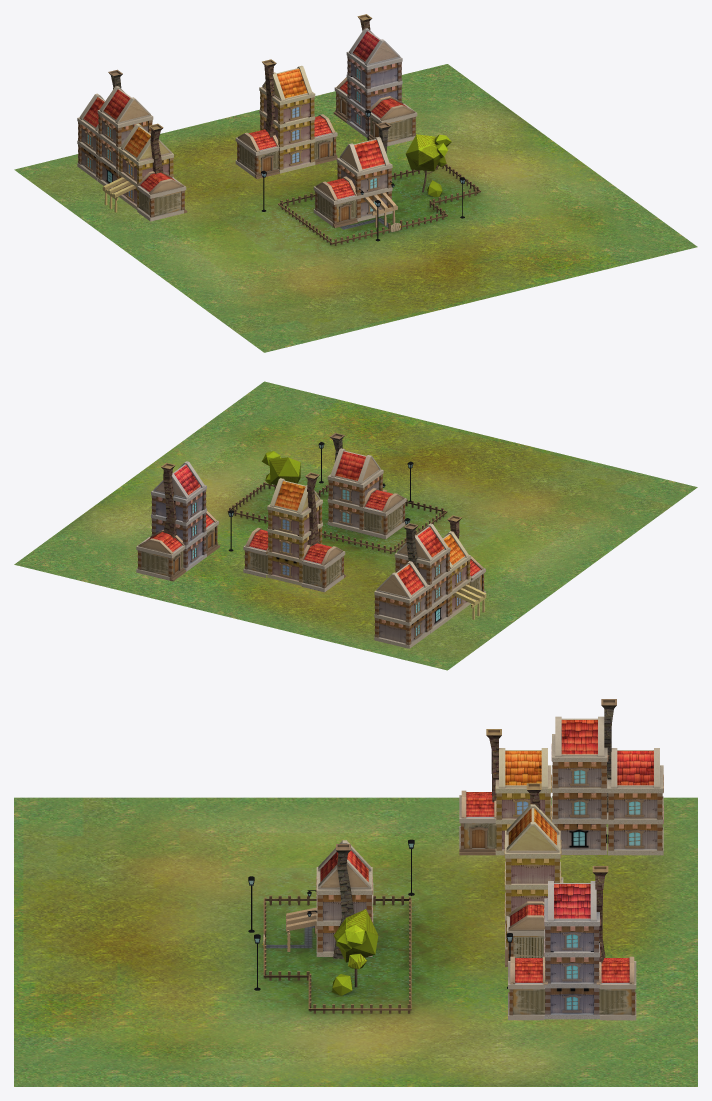
Rendered from CartoonHouses.FBX.
3 views of the same model, one above another, from view 1: azimuth 30°, elevation 25°; view 2: azimuth 150°, elevation 25°; view 3: azimuth 270°, elevation 25° (orthographic). The views are drawn at different scales.
Visible parts, largest first — view 1: Sol, Object005, Object007, maison, maison001, maison002, rdc001, rdc, rdc002, rdc005, cloture, arbre (+3 smaller); view 2: Sol, Object005, Object002, Object007, maison, maison002, maison001, rdc004, rdc, rdc002, cloture, rdc003 (+4 smaller); view 3: Sol, maison002, Object007, Object002, maison, Object005, maison001, rdc001, rdc004, rdc005, arbre, cloture (+2 smaller).
Boxes of the visible parts, bbox=[...] form: Sol: bbox=[14, 64, 697, 352]; Object005: bbox=[259, 65, 315, 173]; Object007: bbox=[346, 28, 402, 137]; maison: bbox=[336, 122, 397, 227]; maison001: bbox=[102, 123, 173, 212]; maison002: bbox=[97, 69, 153, 192]; rdc001: bbox=[137, 171, 187, 221]; rdc: bbox=[313, 176, 357, 227]; rdc002: bbox=[235, 128, 279, 178]; rdc005: bbox=[367, 96, 417, 146]; cloture: bbox=[278, 164, 480, 245]; arbre: bbox=[405, 134, 451, 196]; Sol: bbox=[14, 381, 697, 670]; Object005: bbox=[267, 478, 322, 585]; Object002: bbox=[374, 561, 429, 648]; Object007: bbox=[151, 461, 206, 571]; maison: bbox=[327, 433, 386, 533]; maison002: bbox=[394, 523, 450, 633]; maison001: bbox=[442, 515, 486, 619]; rdc004: bbox=[136, 529, 186, 581]; rdc: bbox=[363, 488, 406, 539]; rdc002: bbox=[300, 543, 345, 592]; cloture: bbox=[227, 482, 447, 553]; rdc003: bbox=[243, 527, 269, 577]; Sol: bbox=[14, 797, 697, 1086]; maison002: bbox=[551, 699, 616, 854]; Object007: bbox=[544, 881, 600, 1019]; Object002: bbox=[607, 748, 663, 855]; maison: bbox=[286, 840, 372, 958]; Object005: bbox=[504, 804, 561, 949]; maison001: bbox=[486, 729, 551, 855]; rdc001: bbox=[459, 790, 496, 855]; rdc004: bbox=[596, 956, 636, 1020]; rdc005: bbox=[508, 956, 547, 1020]; arbre: bbox=[332, 909, 378, 995]; cloture: bbox=[263, 895, 411, 1013].
Bounding box in the file's own units: 7000 × 1627 × 7000.
